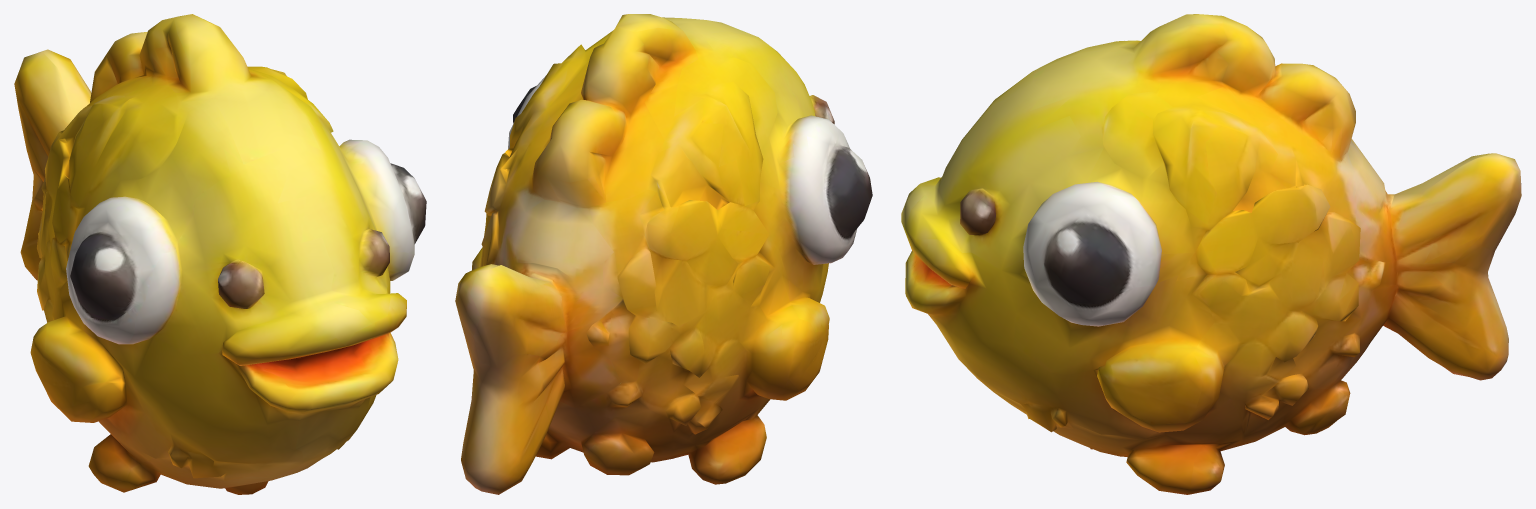
File: fishsnack.glb
3 views of the same model, side by side, from view 1: azimuth 30°, elevation 25°; view 2: azimuth 150°, elevation 25°; view 3: azimuth 270°, elevation 25° (orthographic). The views are drawn at different scales.
Visible parts, largest first — view 1: tripo_node_01a21d92-ac61-7eae-8c23-dc609f50d399; view 2: tripo_node_01a21d92-ac61-7eae-8c23-dc609f50d399; view 3: tripo_node_01a21d92-ac61-7eae-8c23-dc609f50d399.
Part boxes in pixels (bbox=[...]): tripo_node_01a21d92-ac61-7eae-8c23-dc609f50d399: bbox=[14, 14, 426, 494]; tripo_node_01a21d92-ac61-7eae-8c23-dc609f50d399: bbox=[455, 14, 872, 494]; tripo_node_01a21d92-ac61-7eae-8c23-dc609f50d399: bbox=[901, 14, 1521, 494].
Size of the model in its own units: 0.6289 by 0.7701 by 1.
Materials: 1 (1 with a texture image).
